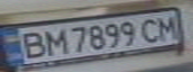7: (66, 24, 87, 53)
8: (87, 21, 106, 52)
9: (118, 18, 142, 47), (103, 20, 124, 48)
B: (15, 29, 51, 60)
C: (136, 15, 166, 43)
M: (39, 26, 69, 56), (154, 12, 184, 39)
